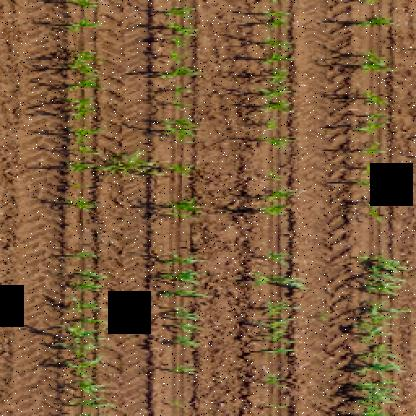sorghum_plant: (154, 4, 212, 224), (346, 9, 403, 228), (252, 5, 304, 221), (349, 244, 413, 414), (245, 250, 310, 398), (57, 242, 114, 410), (60, 0, 104, 210), (153, 249, 216, 377)
